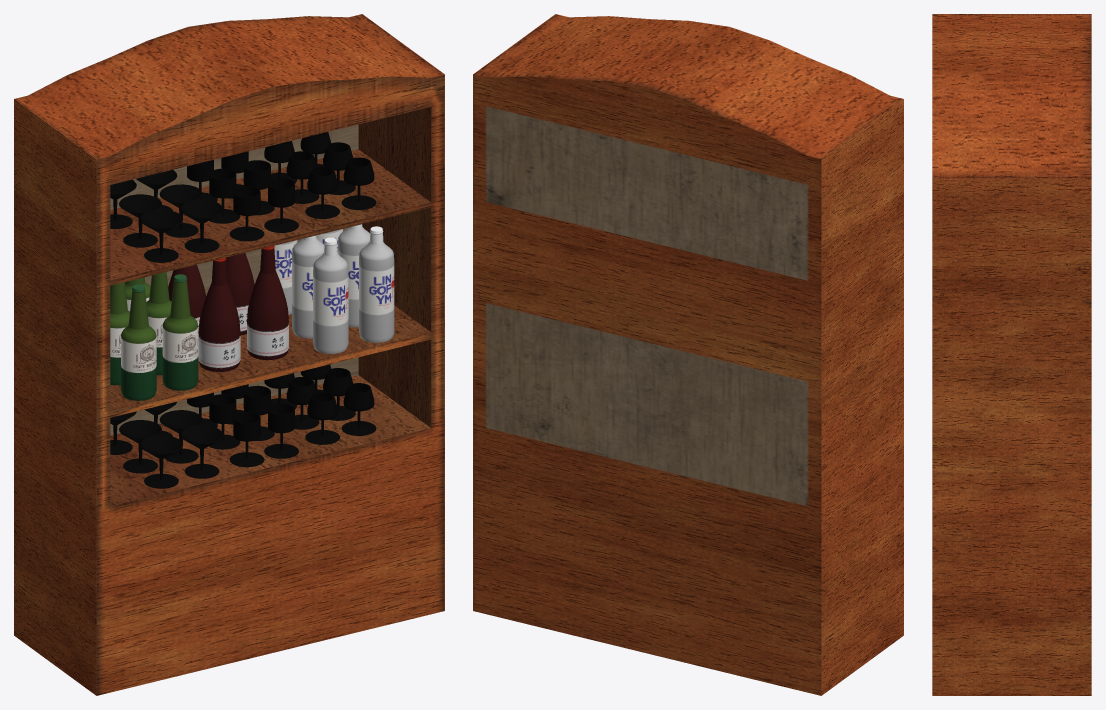
File: barshelfwdrinks.fbx
3 views of the same model, side by side, from view 1: azimuth 30°, elevation 25°; view 2: azimuth 150°, elevation 25°; view 3: azimuth 270°, elevation 25° (orthographic). The views are drawn at different scales.
Visible parts, largest first — view 1: bar_shelf, bottle6, bottle3, sake_bottle1, sake_bottle2, beer_bottle5, beer_bottle2, glass15 (×2), glass7 (×2), glass9 (×2), glass19 (×2), glass14 (×2) (+16 smaller); view 2: bar_shelf; view 3: bar_shelf.
Boxes of the visible parts, <box> form: bar_shelf: <box>14,14,444,695</box>; bottle6: <box>313,237,348,353</box>; bottle3: <box>359,226,394,342</box>; sake_bottle1: <box>198,257,240,371</box>; sake_bottle2: <box>247,245,289,360</box>; beer_bottle5: <box>162,274,198,390</box>; beer_bottle2: <box>121,284,156,400</box>; glass15 (×2): <box>229,186,264,467</box>; glass7 (×2): <box>140,209,182,488</box>; glass9 (×2): <box>180,199,223,478</box>; glass19 (×2): <box>341,157,376,435</box>; glass14 (×2): <box>264,178,298,458</box>; bar_shelf: <box>473,14,903,695</box>; bar_shelf: <box>932,14,1091,695</box>.
Size of the model in its own units: 165 by 257 by 67.75.
7 materials, 7 textured.
